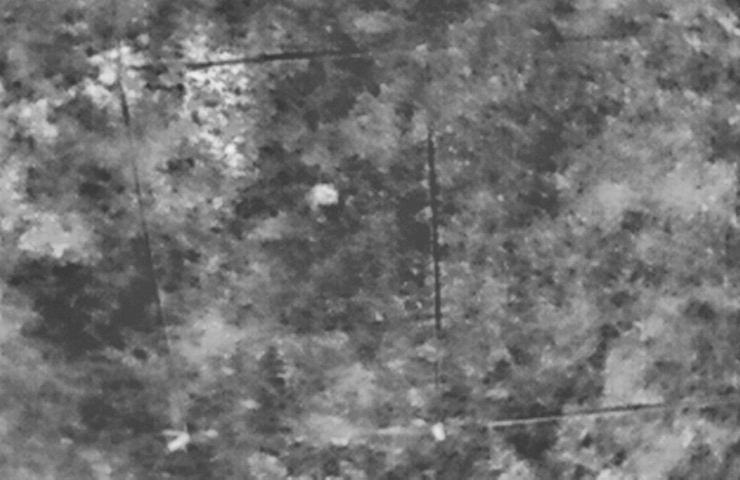landmines: (306, 178, 344, 213)
